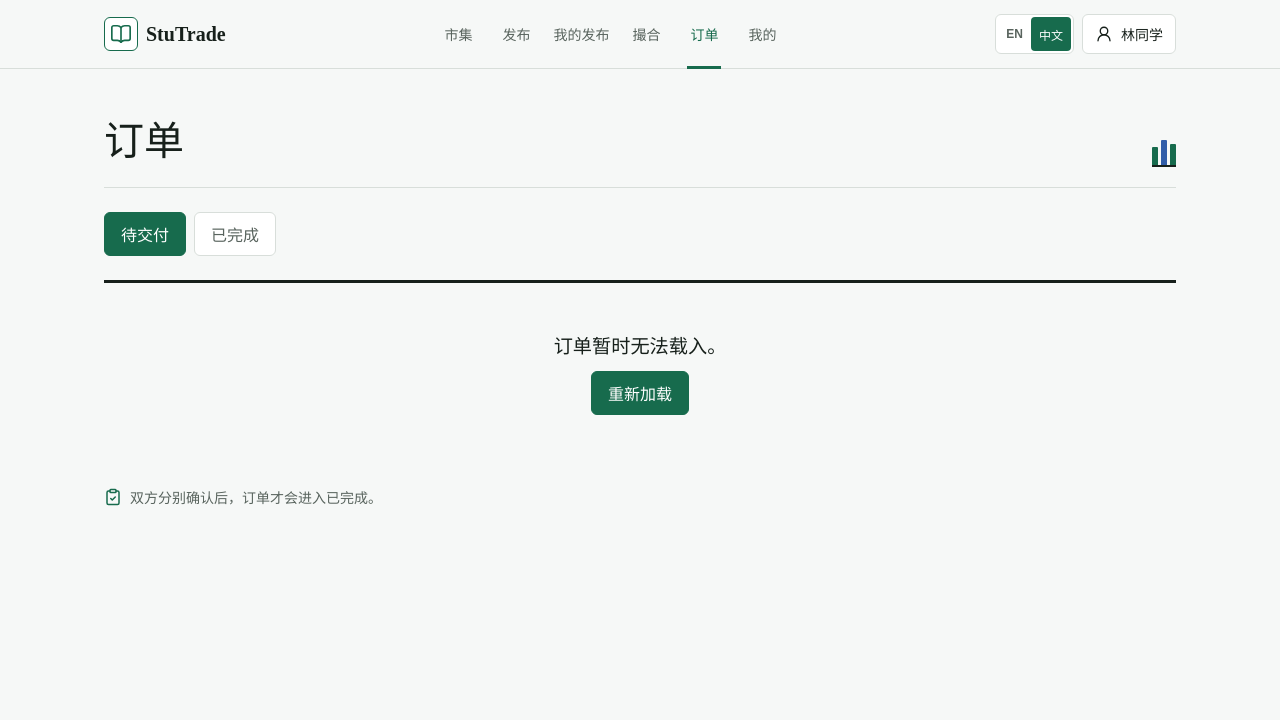
Test: orders › shows an empty state and recovers from a failed list request
Expected: the message shows "订单暂时无法载入", [554,336,726,357]
Click the button "重新加载" at (640, 393), box [591,371,689,415]
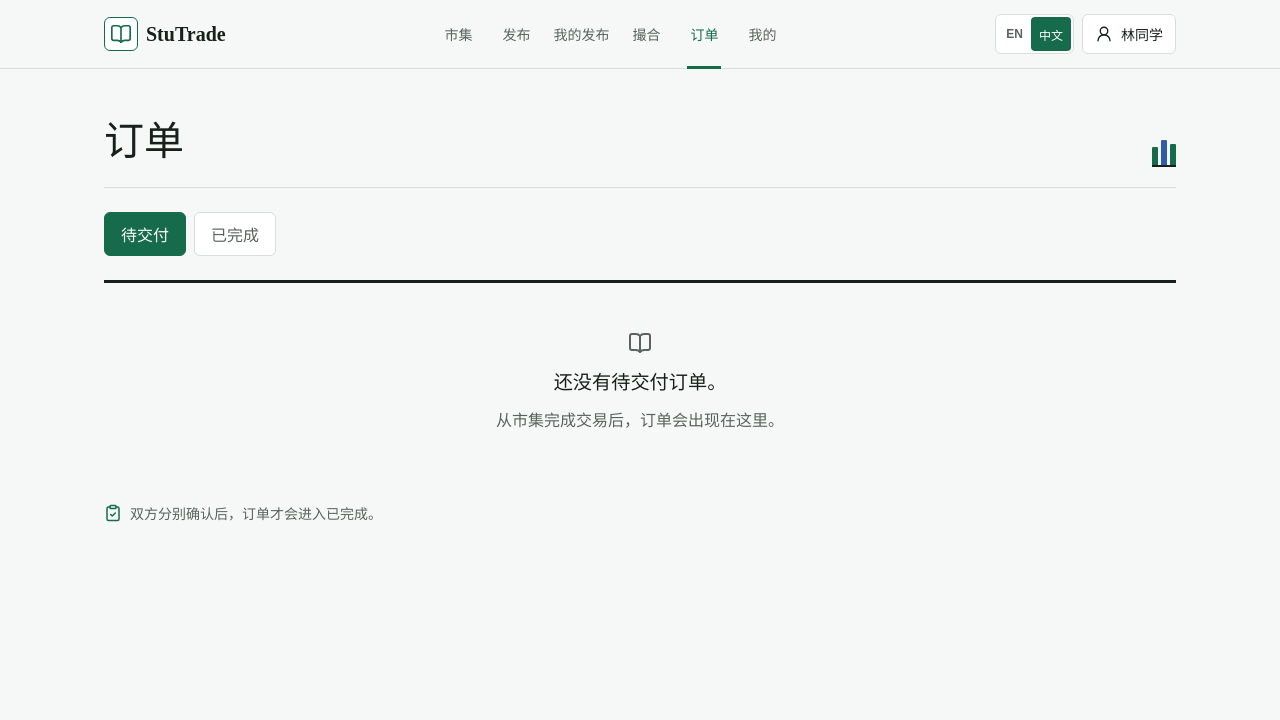
Result: the text "还没有待交付订单。" is shown at [554,367,726,395]
Result: the text "从市集完成交易后，订单会出现在这里。" is shown at [496,407,784,431]
